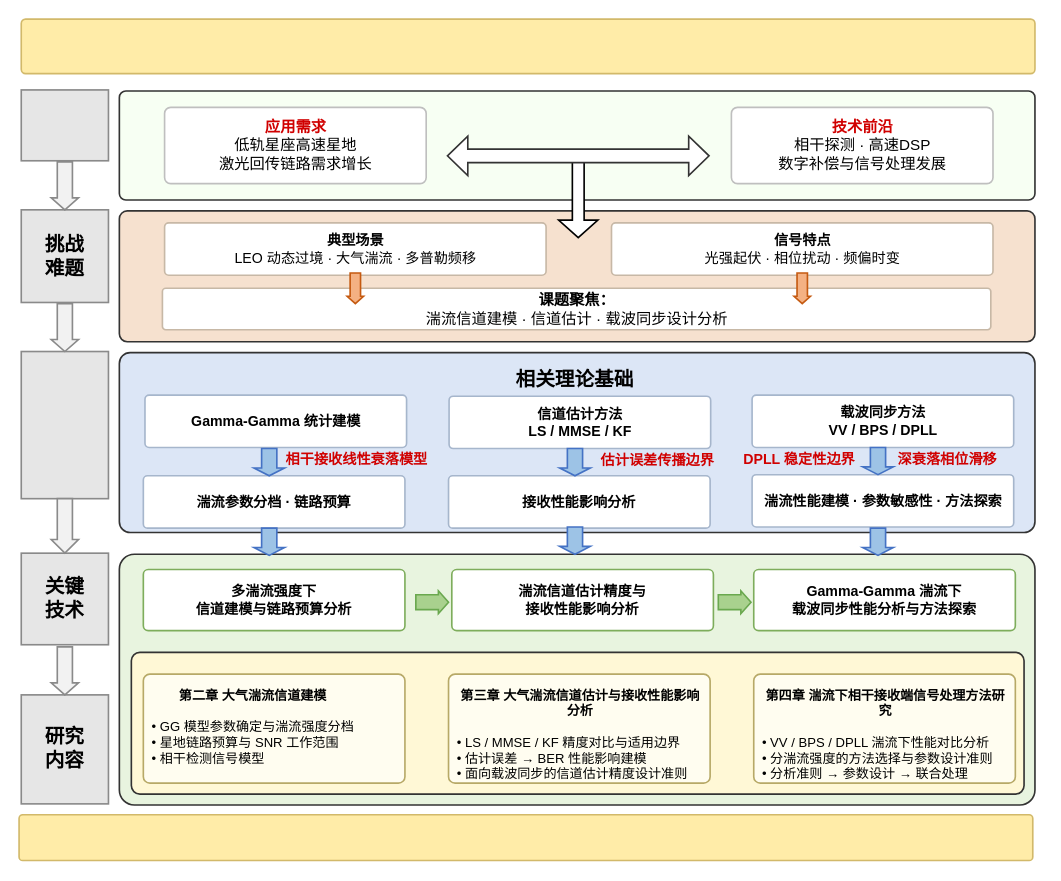
Image size: 1061x881. Some labels were removed from this diagram. Each missing label, with the centre of its shape:
"建立湍流下的星地激光通信信号处理分析与设计框架" belongs at [525,837].
"星地激光通信信号处理关键技术研究" belongs at [527,46].
"理论 支撑 + 研究 思路" belongs at [64,424].
"研究 背景" belongs at [64,125].
